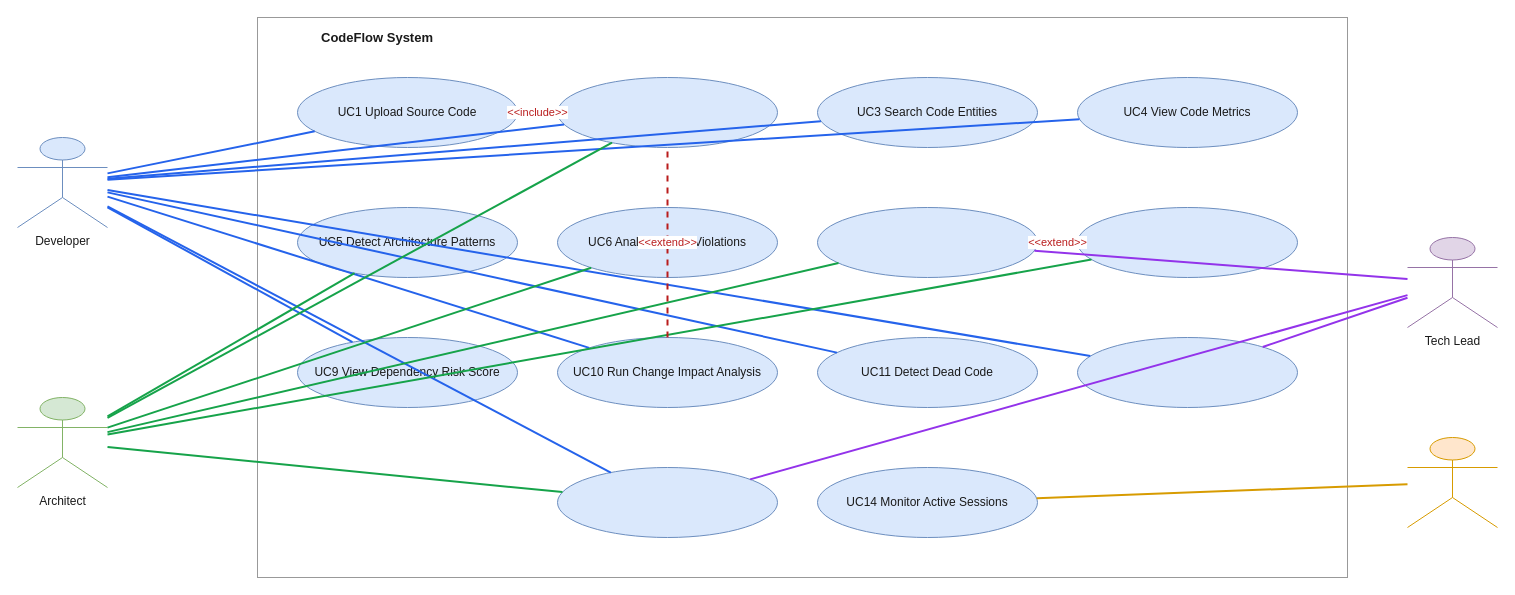
The diagram is 1515 pixels wide and 595 high, and some of its shapes have lost their labels. Each missing label, with the centre of its shape:
Administrator: [1452,482]
UC12 View Git History & Quality Trend: [1187,372]
UC13 Manage Session: [667,502]
UC2 Browse 3-Tier Code Graph: [667,112]
UC7 Run Code Smell Analysis: [927,242]
UC8 Request AI Refactor Plan: [1187,242]
